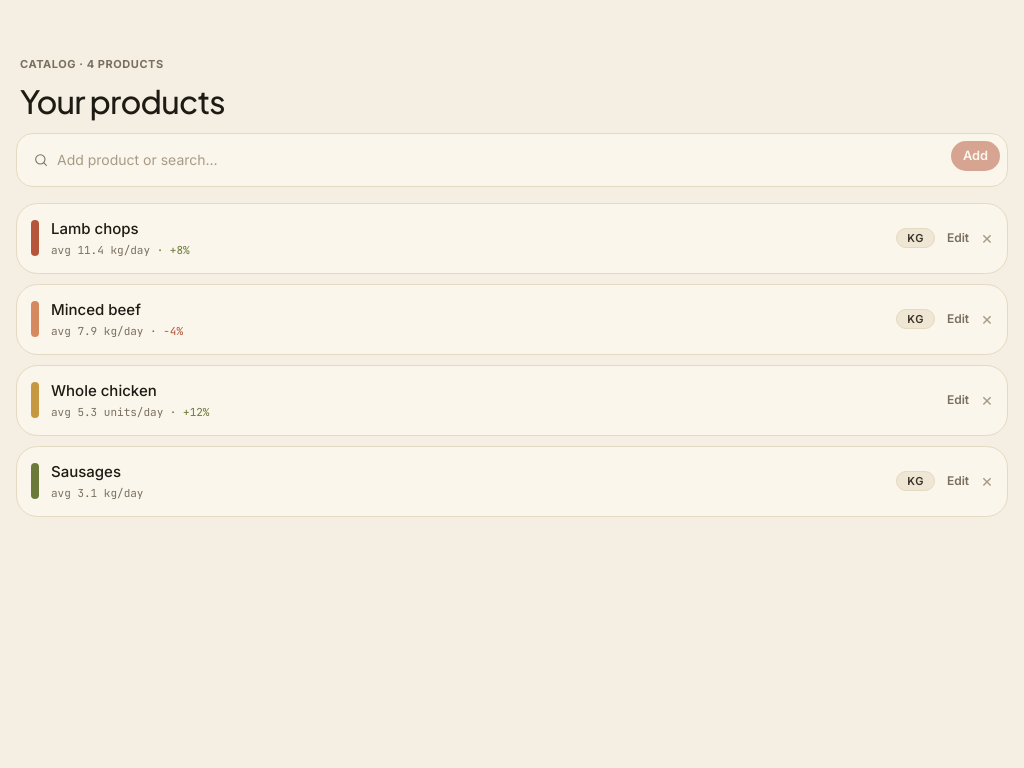
Test: ProductsClient › shows the API's message when the product already exists
The image size is (1024, 768).
expect the text "Lamb chops" is shown: met, box [51,218,139,238]
Type "lamb chops" into the field with placeholder "Add product or search…".
click(494, 160); type("lamb chops")  # box [57,140,932,180]
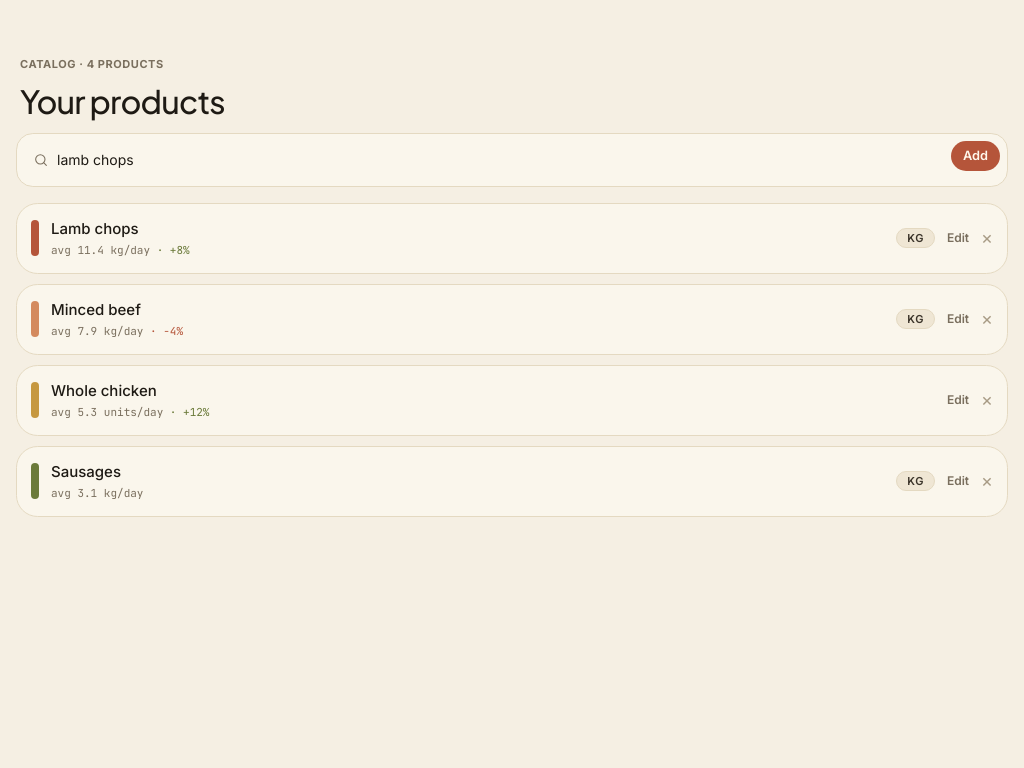
Click the button "Add".
click(975, 156)  # box [950,140,1001,172]
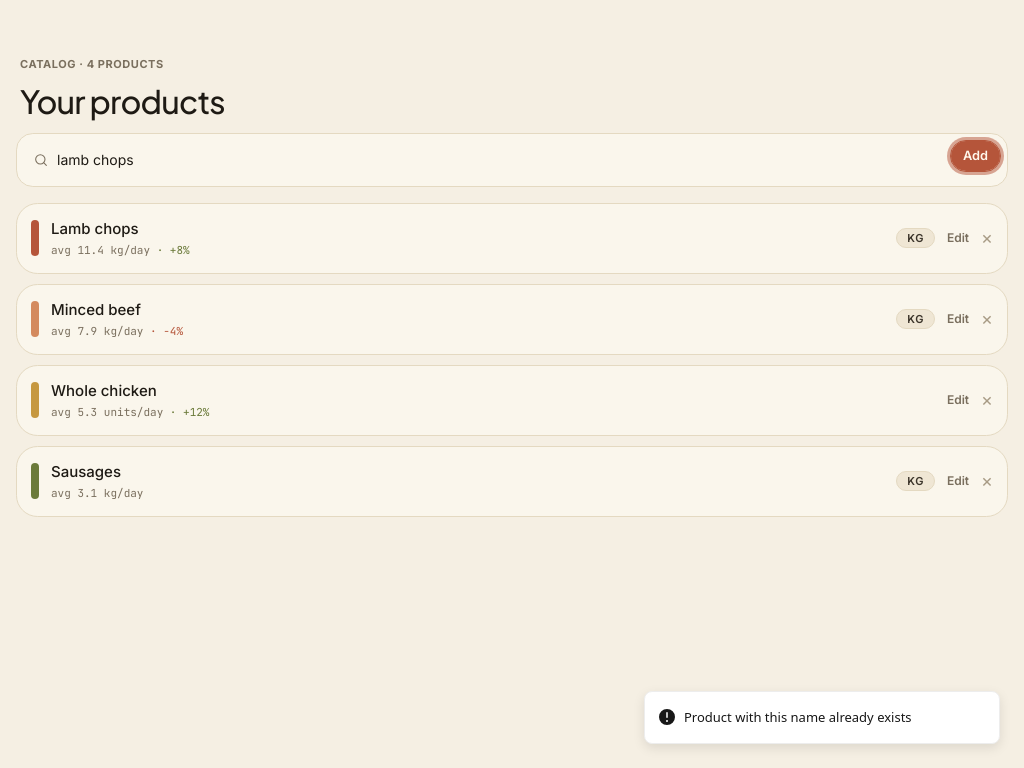
expect the text "Product with this name already exists" is shown: met, box [684,708,912,727]
